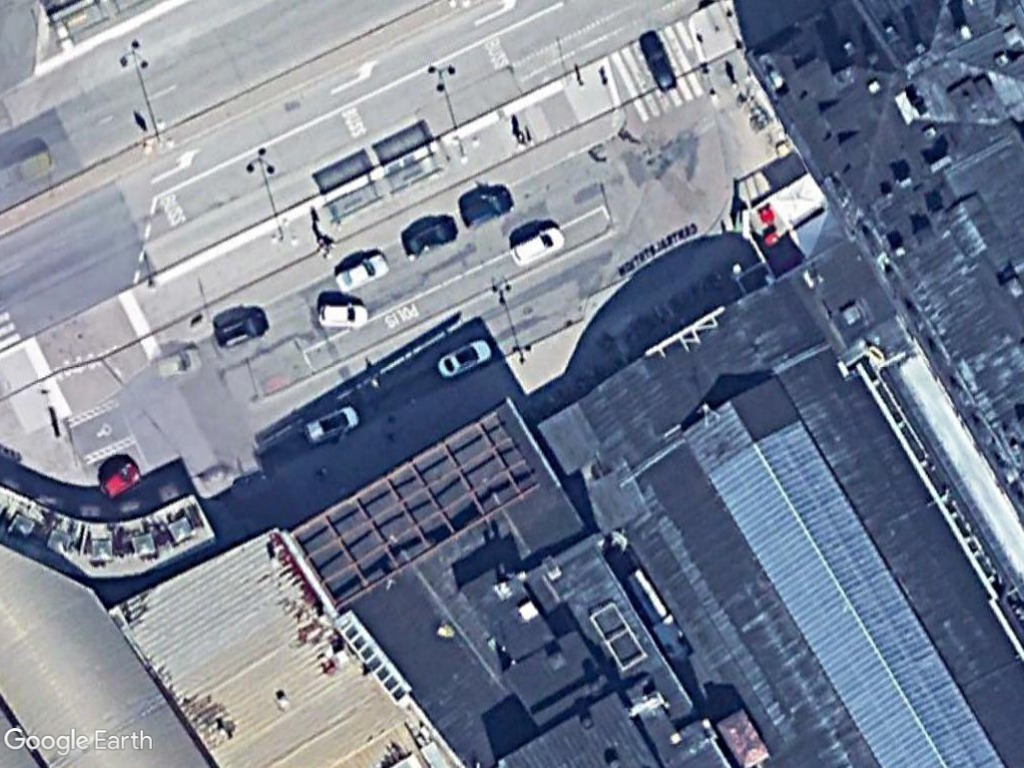car: (395, 207, 458, 266), (504, 216, 567, 273), (430, 329, 494, 382), (329, 245, 391, 299), (301, 395, 364, 448), (460, 176, 516, 232), (210, 302, 268, 353), (94, 454, 141, 511), (309, 299, 375, 335)
